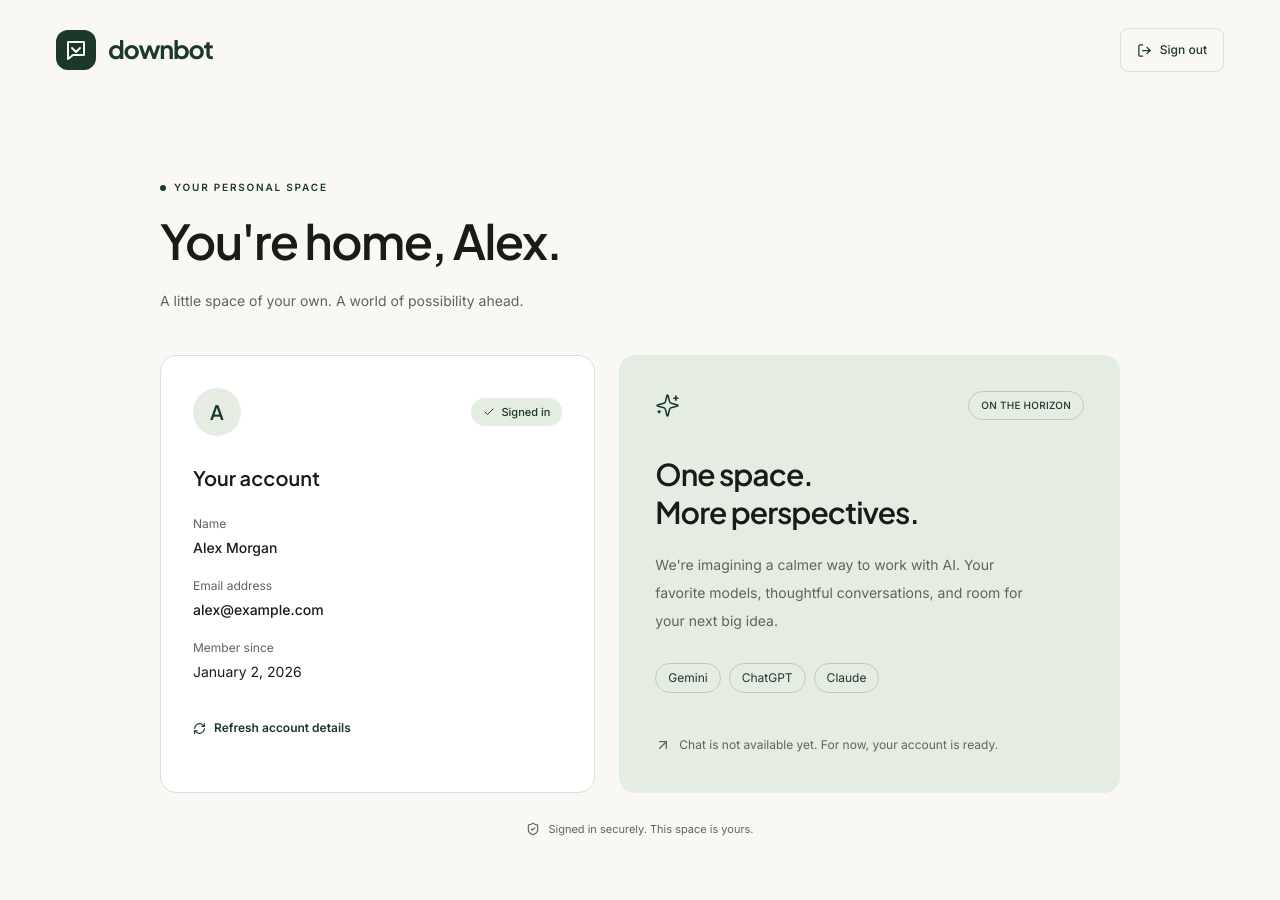
Test: authentication UI › keeps the session visible when logout fails and clears it only when confirmed
This screenshot has width=1280, height=900.
Click the button "Sign out". click: click(1172, 50)
box: [1120,28,1224,72]
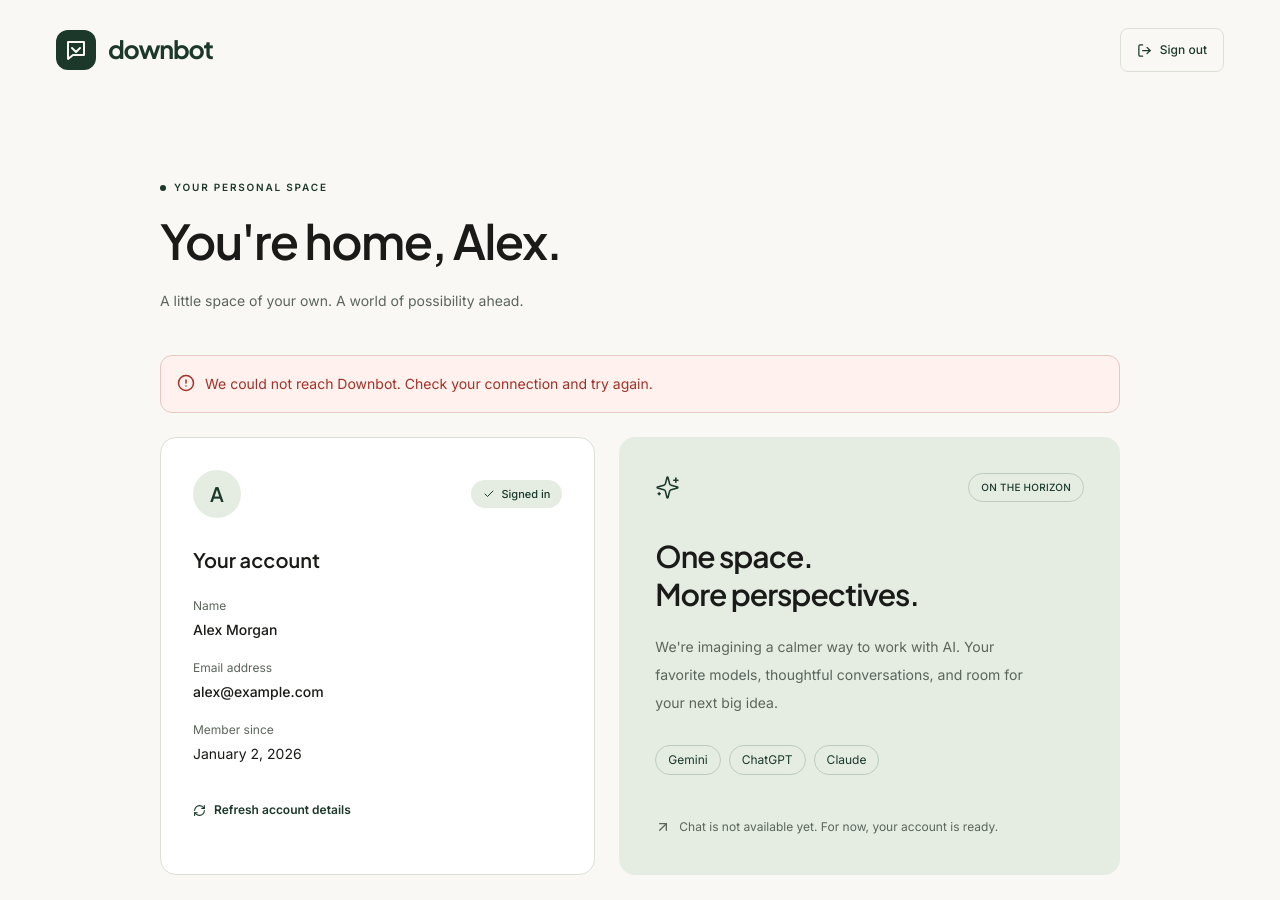
Result: the message shows "Check your connection" at [205,375,653,392]
Click the button "Sign out". click: click(1172, 50)
box: [1120,28,1224,72]
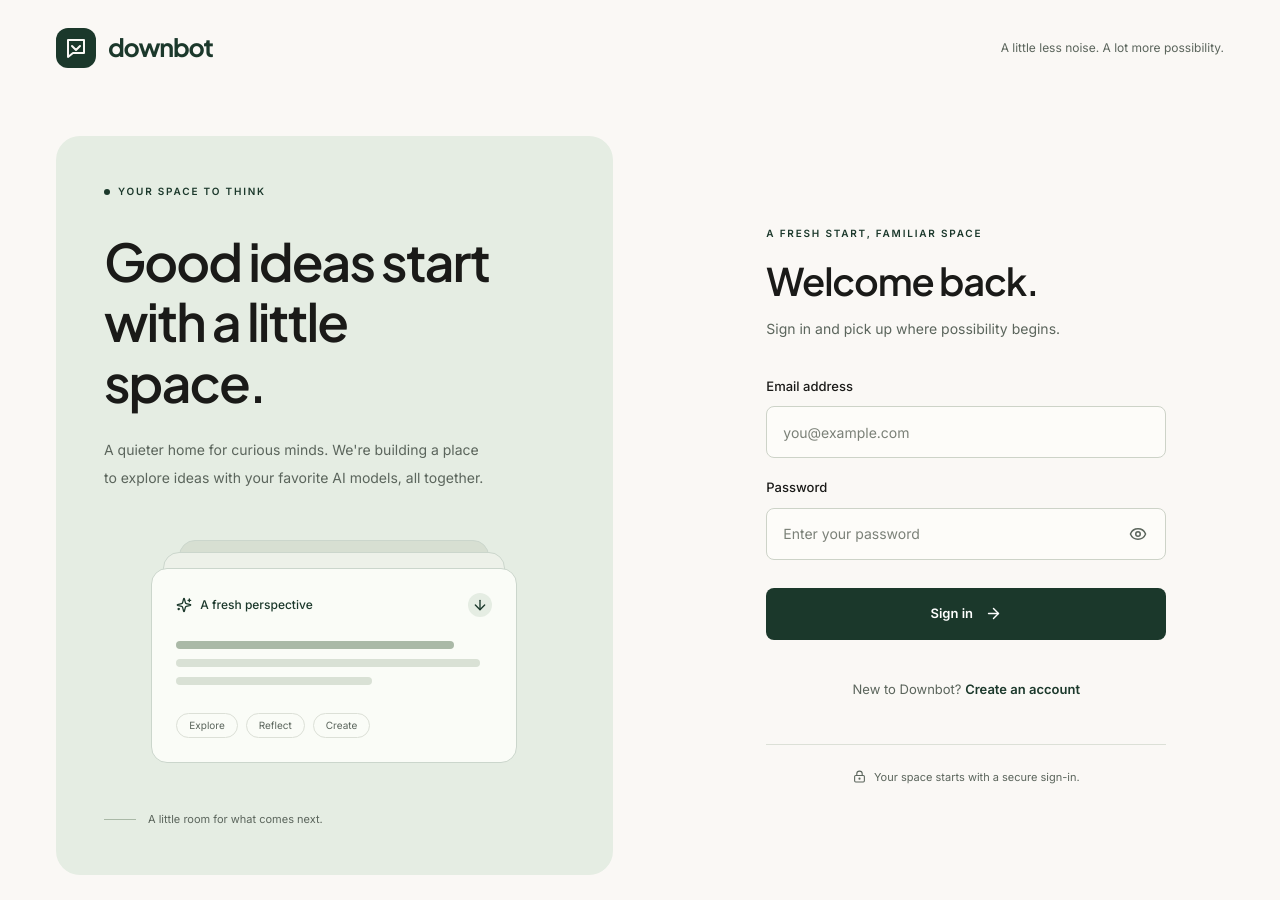
Result: the heading "Welcome back." is shown at [766,257,1038,304]
